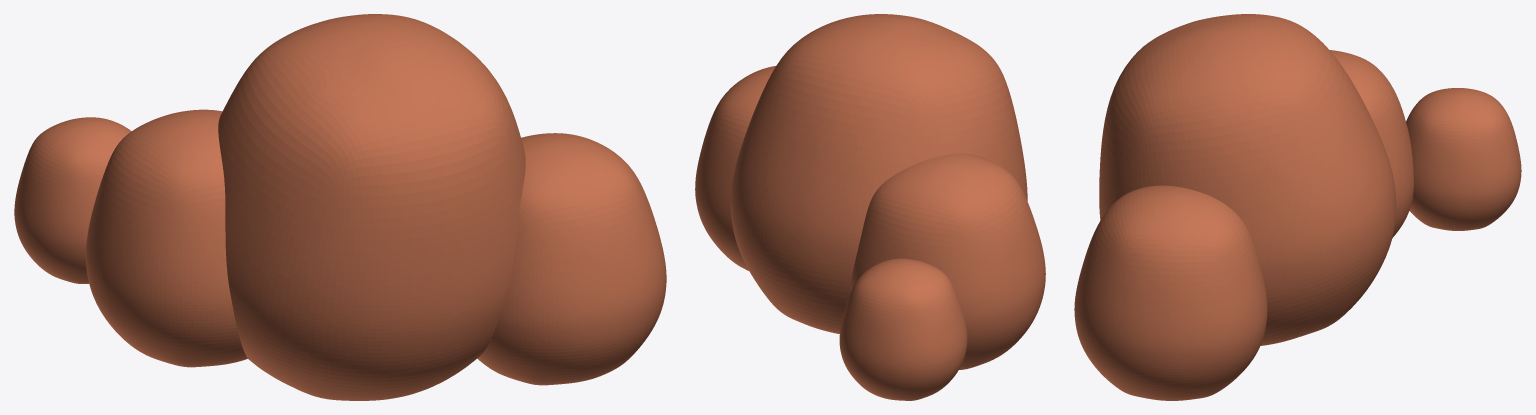
File: orangebush.fbx
The picture shows the model from 3 angles, left to right: view 1: azimuth 30°, elevation 25°; view 2: azimuth 150°, elevation 25°; view 3: azimuth 270°, elevation 25°; orthographic projection. The views are drawn at different scales.
Parts seen in each view (by area): view 1: Roundcube.045, Roundcube.047, Roundcube.046, Roundcube.048; view 2: Roundcube.045, Roundcube.046, Roundcube.048, Roundcube.047; view 3: Roundcube.045, Roundcube.047, Roundcube.048, Roundcube.046.
Part boxes in pixels (<box>): Roundcube.045: <box>218,14,525,400</box>; Roundcube.047: <box>477,133,666,385</box>; Roundcube.046: <box>85,109,247,367</box>; Roundcube.048: <box>14,117,131,283</box>; Roundcube.045: <box>730,14,1027,334</box>; Roundcube.046: <box>851,153,1045,369</box>; Roundcube.048: <box>839,258,967,400</box>; Roundcube.047: <box>695,66,775,270</box>; Roundcube.045: <box>1099,14,1396,345</box>; Roundcube.047: <box>1074,185,1267,400</box>; Roundcube.048: <box>1406,88,1521,230</box>; Roundcube.046: <box>1330,50,1413,237</box>.
Bounding box in the file's own units: 118 × 83.49 × 115.
